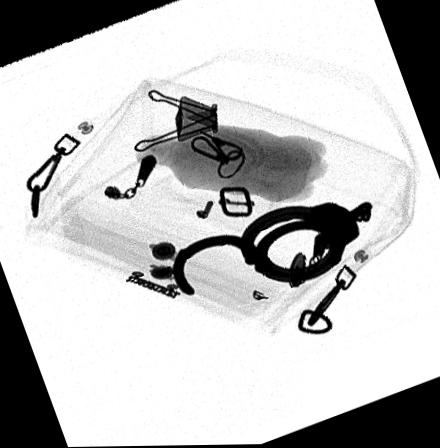HandCuffs: (171, 200, 373, 295)
